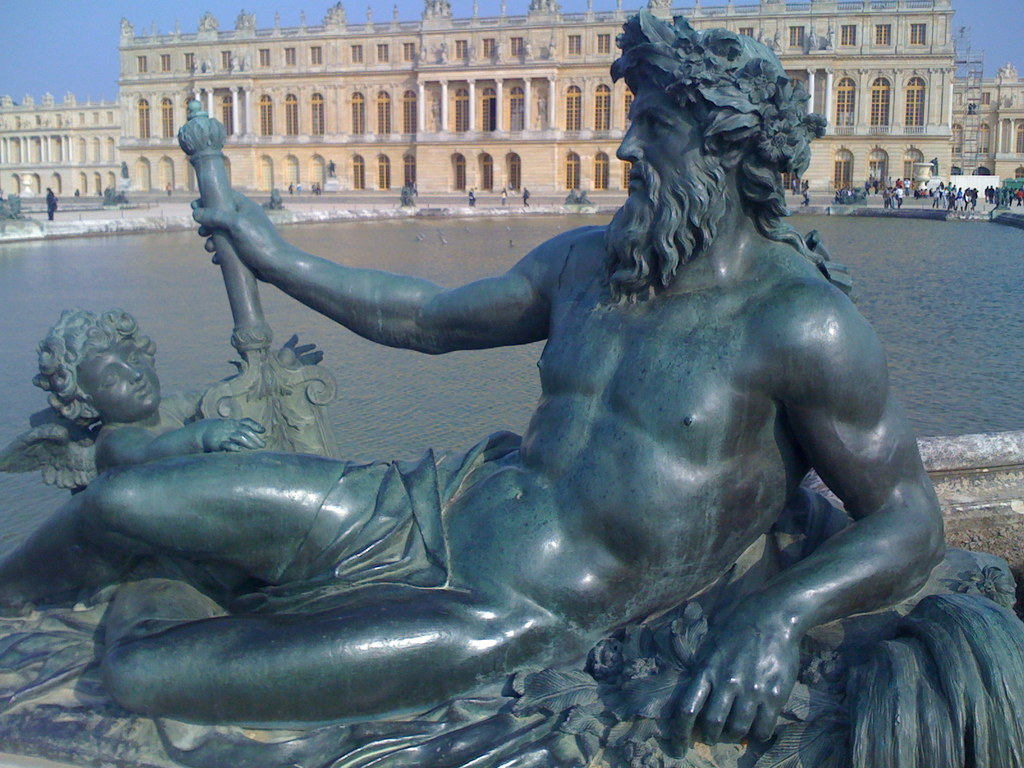Person: (0, 10, 944, 758), (0, 304, 324, 496), (865, 174, 1024, 213), (46, 186, 57, 219), (521, 186, 531, 207), (466, 188, 478, 204), (501, 186, 507, 205)
